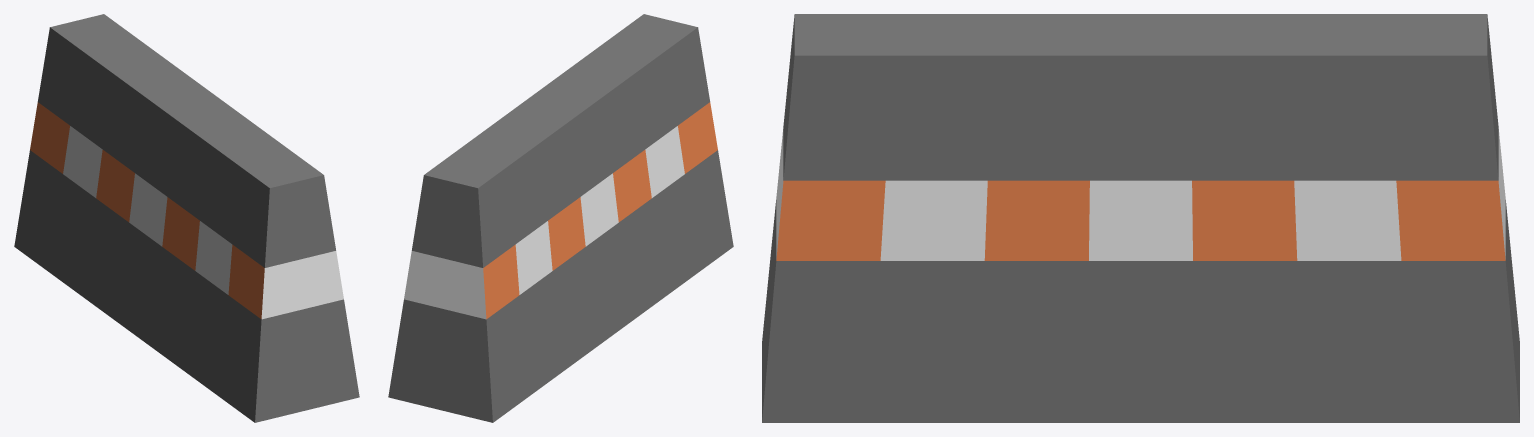
File: Barrier.FBX
3 views of the same model, side by side, from view 1: azimuth 30°, elevation 25°; view 2: azimuth 150°, elevation 25°; view 3: azimuth 270°, elevation 25° (orthographic). The views are drawn at different scales.
Parts seen in each view (by area): view 1: Box001; view 2: Box001; view 3: Box001.
Boxes of the visible parts, x1=… form: Box001: x1=14, y1=14, x2=359, y2=422; Box001: x1=388, y1=14, x2=733, y2=422; Box001: x1=762, y1=14, x2=1519, y2=422.
Bounding box in the file's own units: 7.46 × 15.03 × 29.67.
